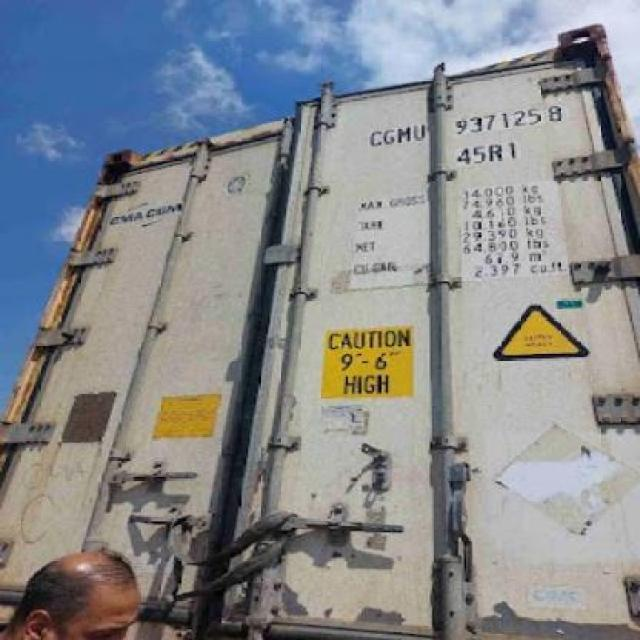ISO: (460, 138, 520, 168)
container_number: (364, 105, 560, 149)
